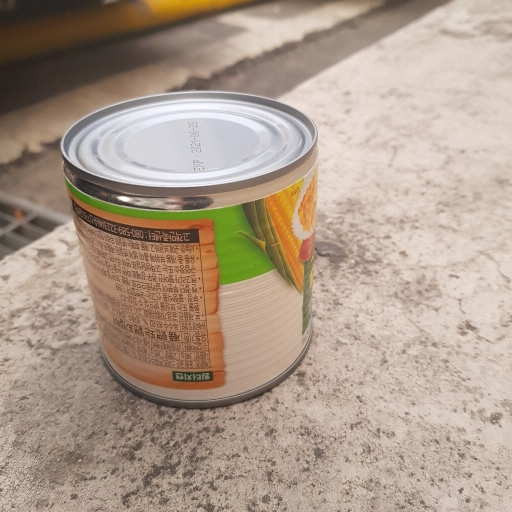Metal_1: (58, 90, 321, 404)
